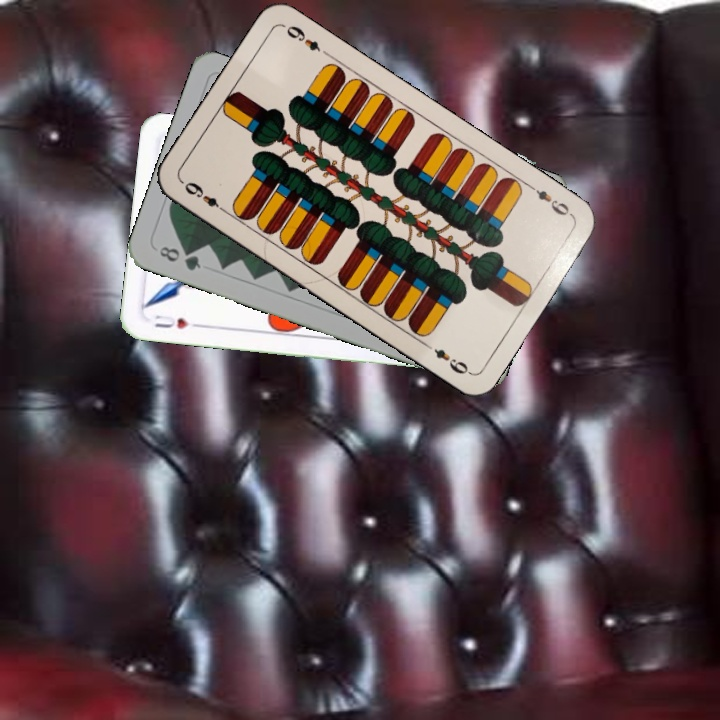E9: (524, 180, 576, 219), (180, 177, 230, 216)
G8: (155, 242, 204, 274)
HU: (151, 310, 203, 332)
